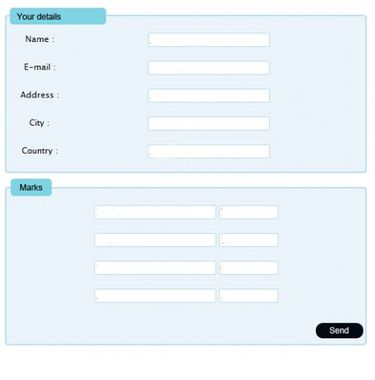_form_: (1, 1, 375, 380)
button: (314, 321, 365, 340)
field: (146, 58, 270, 77), (146, 114, 272, 132), (146, 87, 271, 104), (146, 143, 271, 160), (147, 31, 271, 48), (94, 232, 218, 247), (92, 288, 216, 303), (94, 205, 217, 220), (93, 261, 216, 275), (219, 232, 280, 248), (218, 205, 280, 220), (218, 288, 280, 303), (218, 260, 279, 275)
